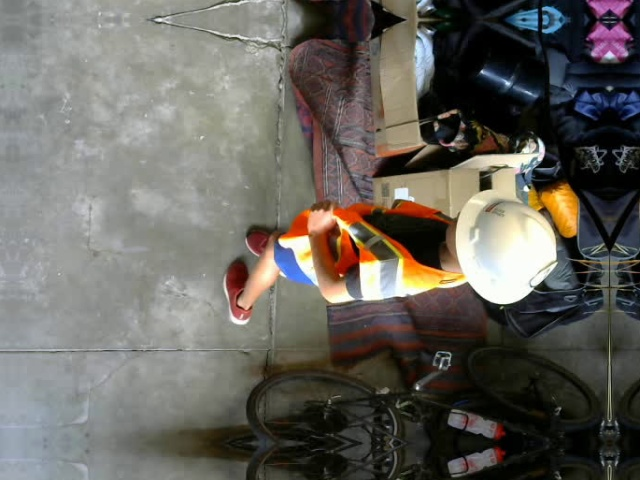one: (529, 261, 556, 286)
